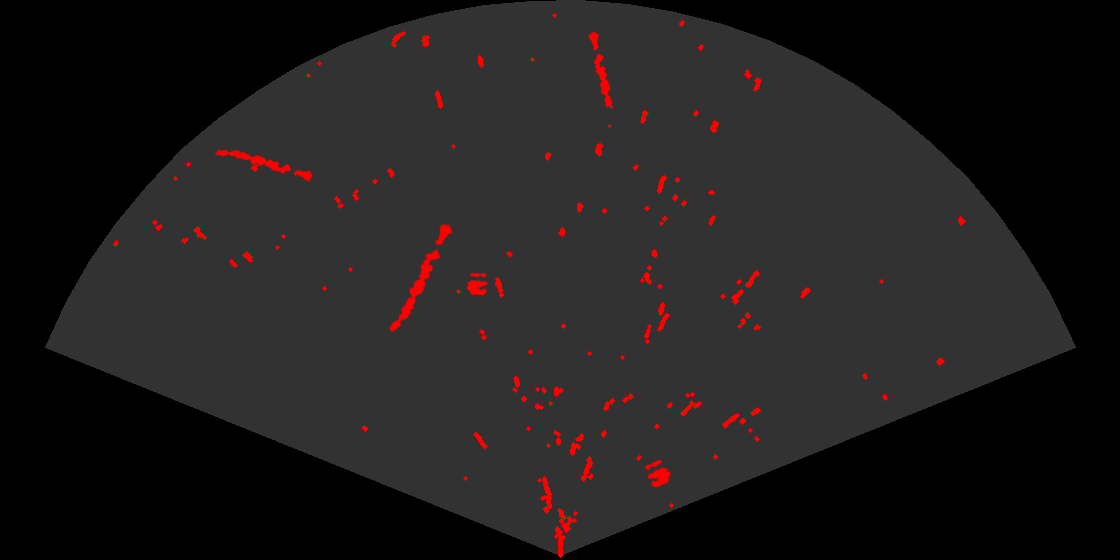ball: (643, 458, 672, 489), (465, 271, 489, 297)
chain: (388, 222, 455, 334), (216, 148, 315, 183), (587, 29, 615, 130)
